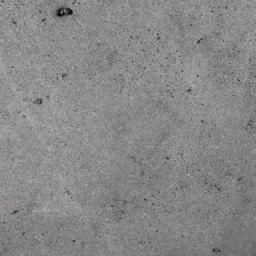FOD: (57, 6, 77, 20)
